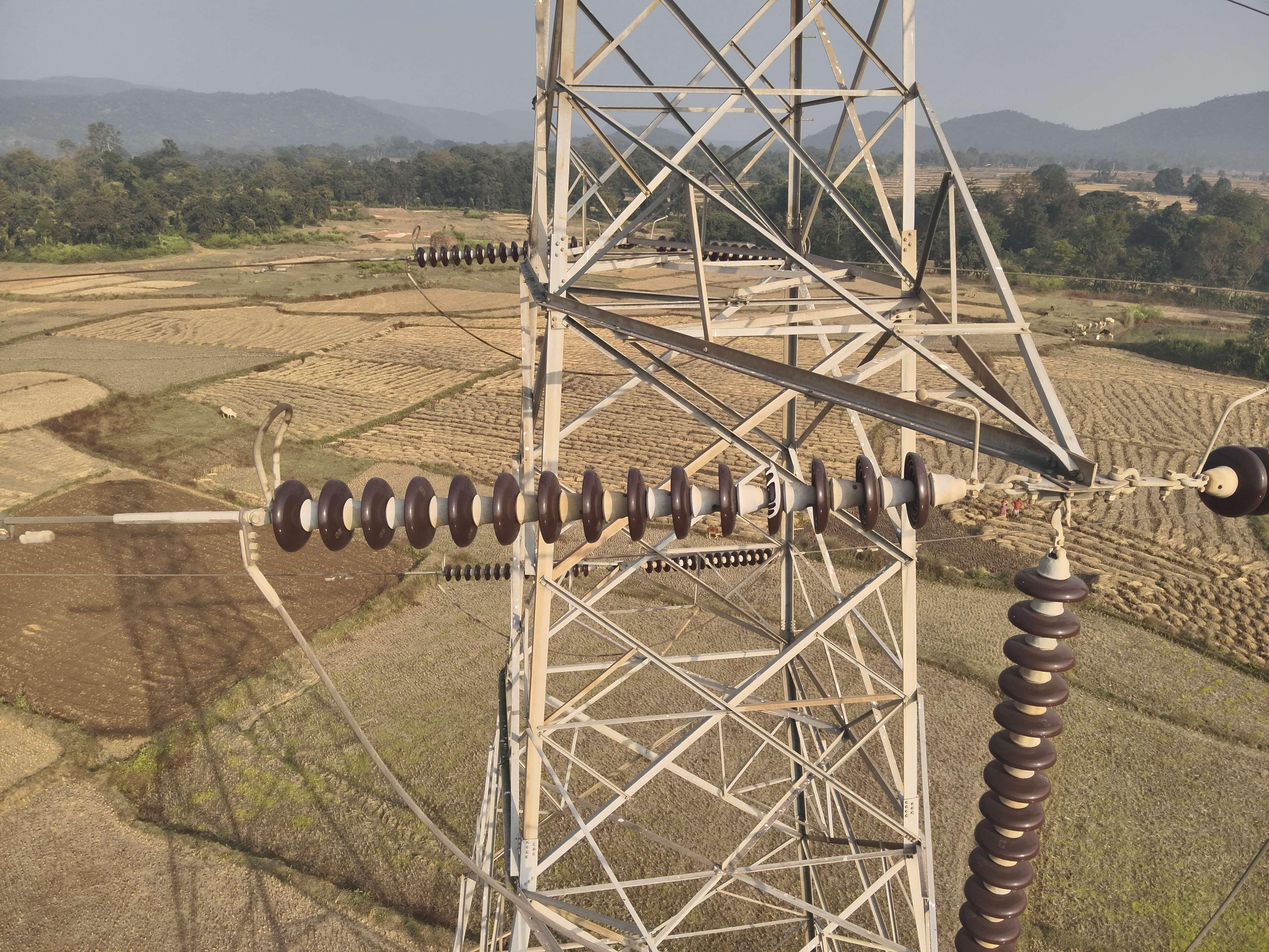broken_insulator: (762, 460, 786, 538)
